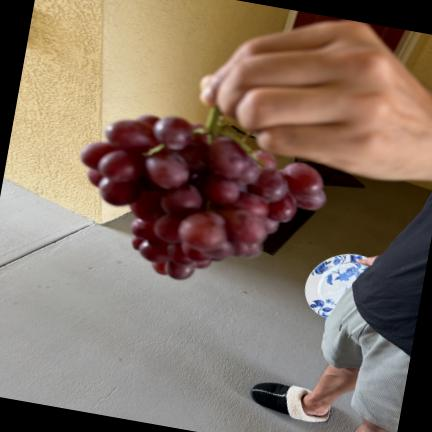grape_cluster: (81, 110, 326, 279)
